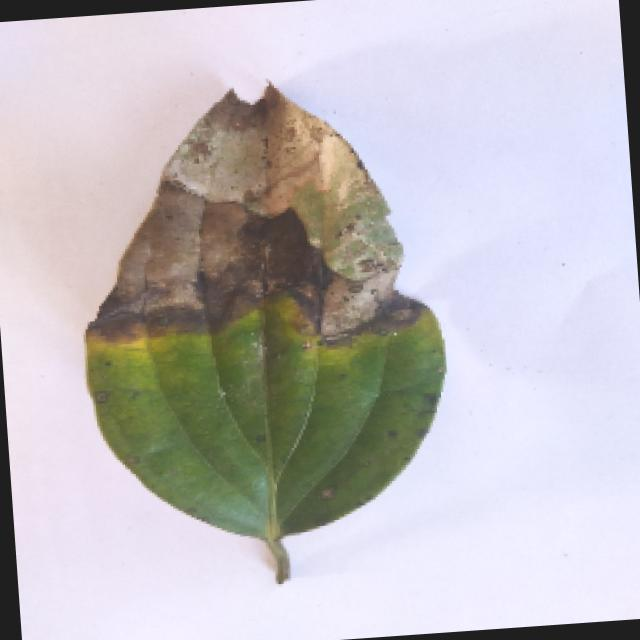footrot: (61, 66, 460, 594)
